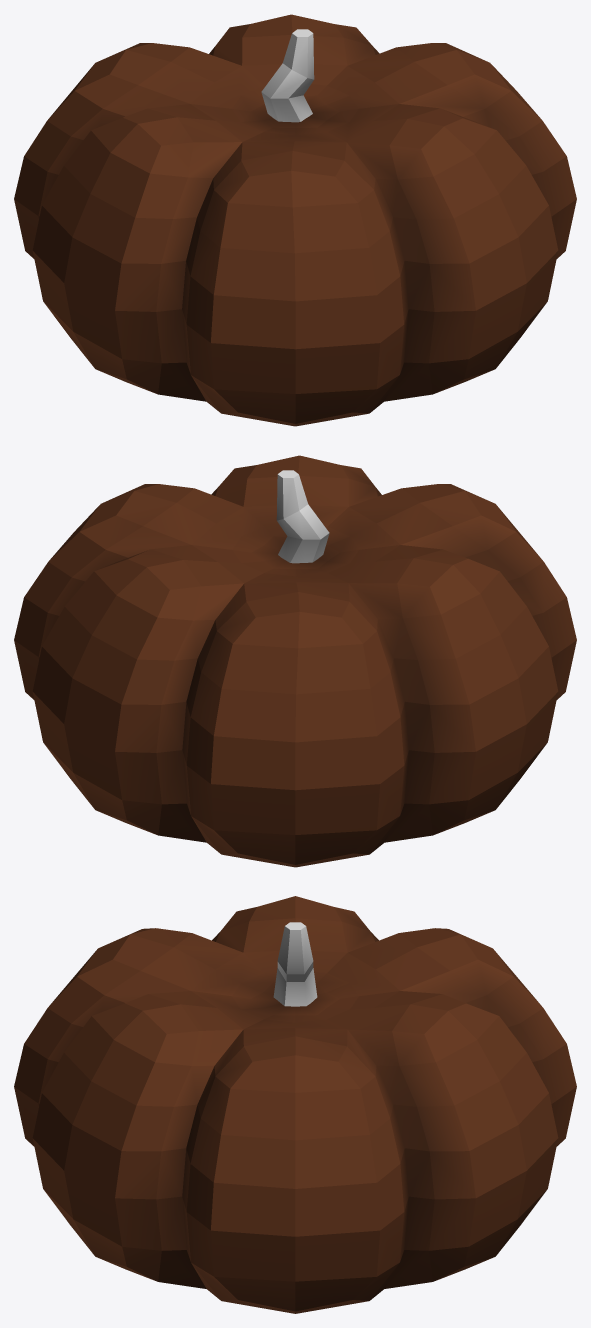
The model's file is pq_citrouille.glb.
The picture shows the model from 3 angles, top to bottom: view 1: azimuth 30°, elevation 25°; view 2: azimuth 150°, elevation 25°; view 3: azimuth 270°, elevation 25°; orthographic projection.
Visible parts, largest first — view 1: Pumpkin; view 2: Pumpkin; view 3: Pumpkin.
Part boxes in pixels (box(x1,y1,x2,y2)): Pumpkin: box(14, 14, 576, 426); Pumpkin: box(14, 455, 576, 867); Pumpkin: box(14, 896, 576, 1313).
Bounding box in the file's own units: 0.3444 × 0.2141 × 0.3478.
